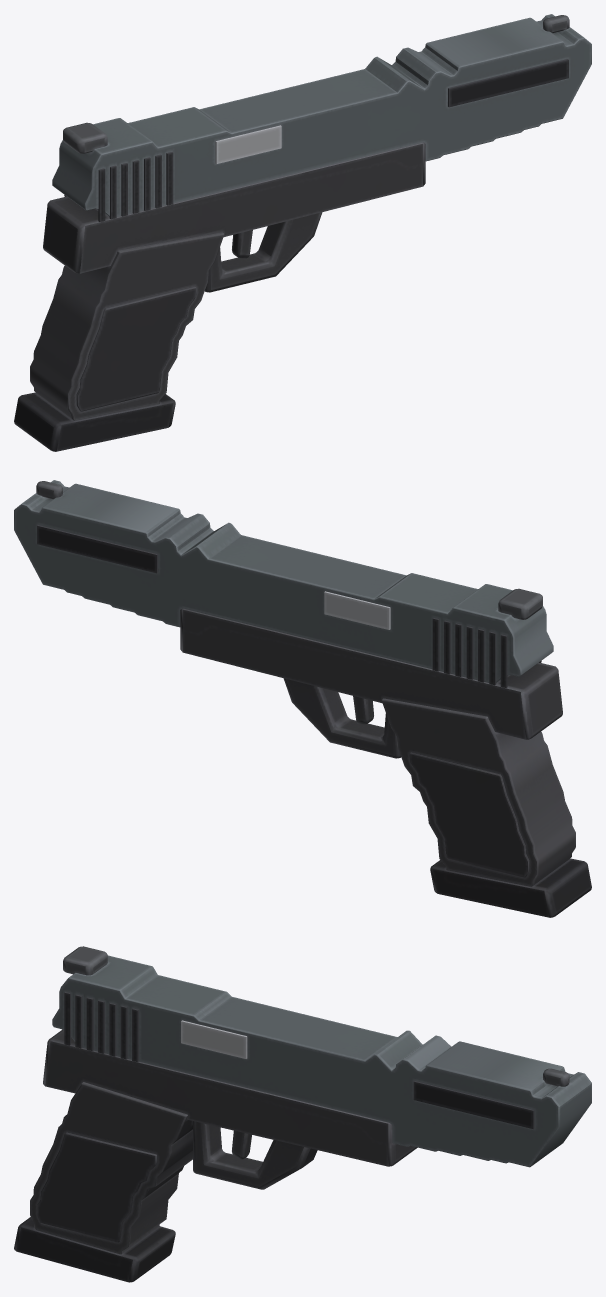
Rendered from AT_GXP.fbx.
3 renders of one model, top to bottom at view 1: azimuth 30°, elevation 25°; view 2: azimuth 150°, elevation 25°; view 3: azimuth 330°, elevation 25°, orthographic.
Parts seen in each view (by area): view 1: AT_GXP; view 2: AT_GXP; view 3: AT_GXP.
Boxes of the visible parts, box(x1,y1,x2,y2) form: AT_GXP: box(14, 14, 591, 451); AT_GXP: box(14, 480, 591, 917); AT_GXP: box(14, 946, 591, 1282).
Bounding box in the file's own units: 0.198 × 0.1039 × 0.0257.
1 material, 1 textured.
